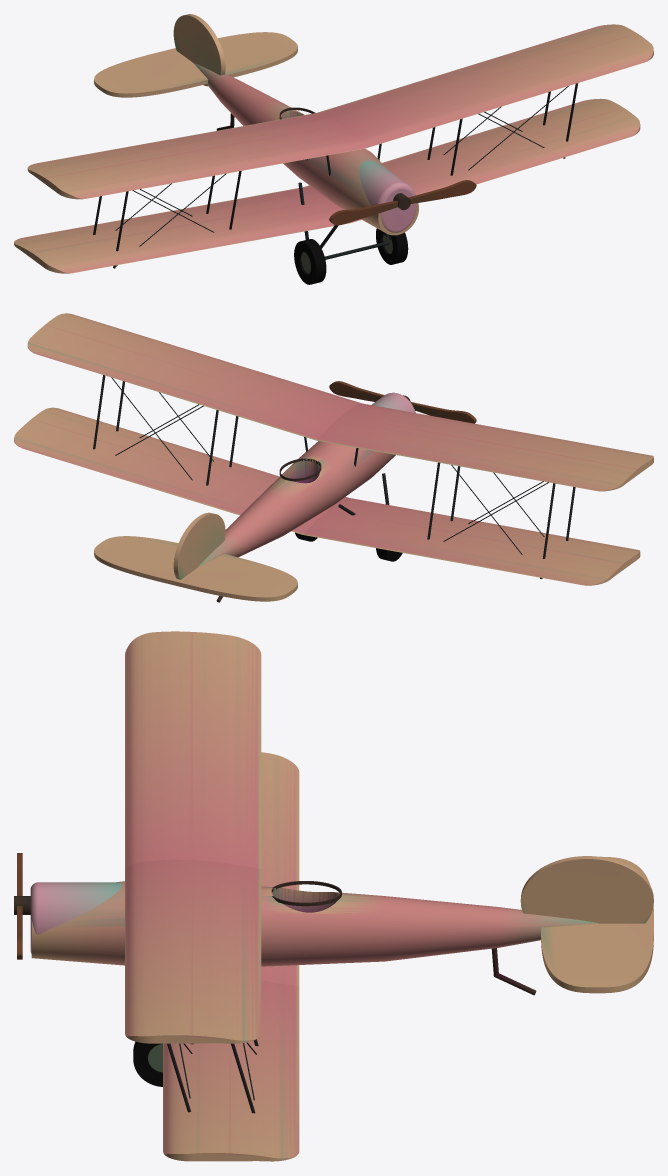
The picture shows the model from 3 angles, top to bottom: view 1: azimuth 30°, elevation 25°; view 2: azimuth 150°, elevation 25°; view 3: azimuth 270°, elevation 25°; orthographic projection. The views are drawn at different scales.
Visible parts, largest first — view 1: wing, wing.001, tailplane, body, cowling, fin, tire.001, blade.001, blade, tire; view 2: wing, wing.001, body, tailplane, fin, blade.001, blade, cowling; view 3: wing, wing.001, body, fin, tailplane, cowling, tire.
Part boxes in pixels (x1,y1,x2,y2): wing: (27, 24, 653, 199); wing.001: (14, 98, 640, 273); tailplane: (94, 32, 297, 97); body: (193, 63, 418, 235); cowling: (359, 160, 416, 232); fin: (173, 14, 225, 86); tire.001: (294, 239, 326, 284); blade.001: (329, 200, 398, 225); blade: (408, 180, 476, 203); tire: (376, 228, 408, 264); wing: (27, 313, 653, 491); wing.001: (14, 407, 640, 585); body: (198, 441, 395, 567); tailplane: (94, 536, 297, 601); fin: (173, 512, 225, 579); blade.001: (410, 402, 476, 423); blade: (329, 381, 384, 401); cowling: (371, 392, 415, 412); wing: (125, 631, 261, 1043); wing.001: (163, 752, 299, 1161); body: (31, 881, 598, 966); fin: (520, 856, 653, 923); tailplane: (541, 856, 653, 993); cowling: (30, 882, 121, 953); tire: (133, 1041, 162, 1086).
Size of the model in its own units: 8.98 by 2.31 by 6.01.
